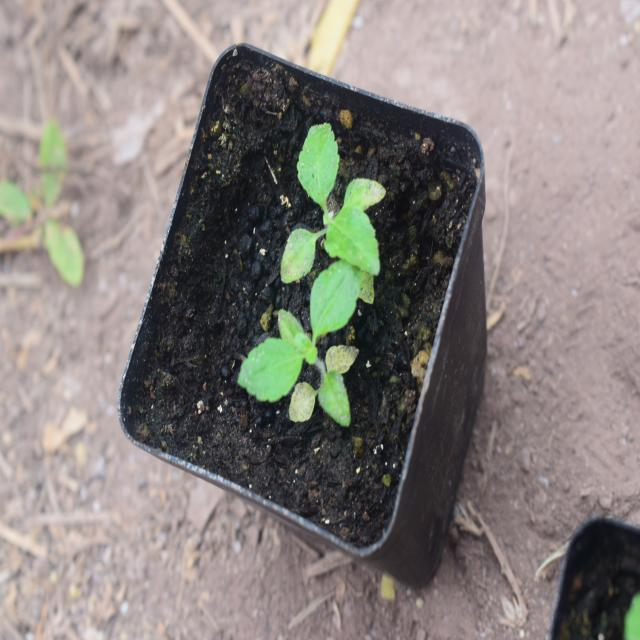billygoat_weed: (228, 261, 379, 451), (277, 121, 414, 305)
